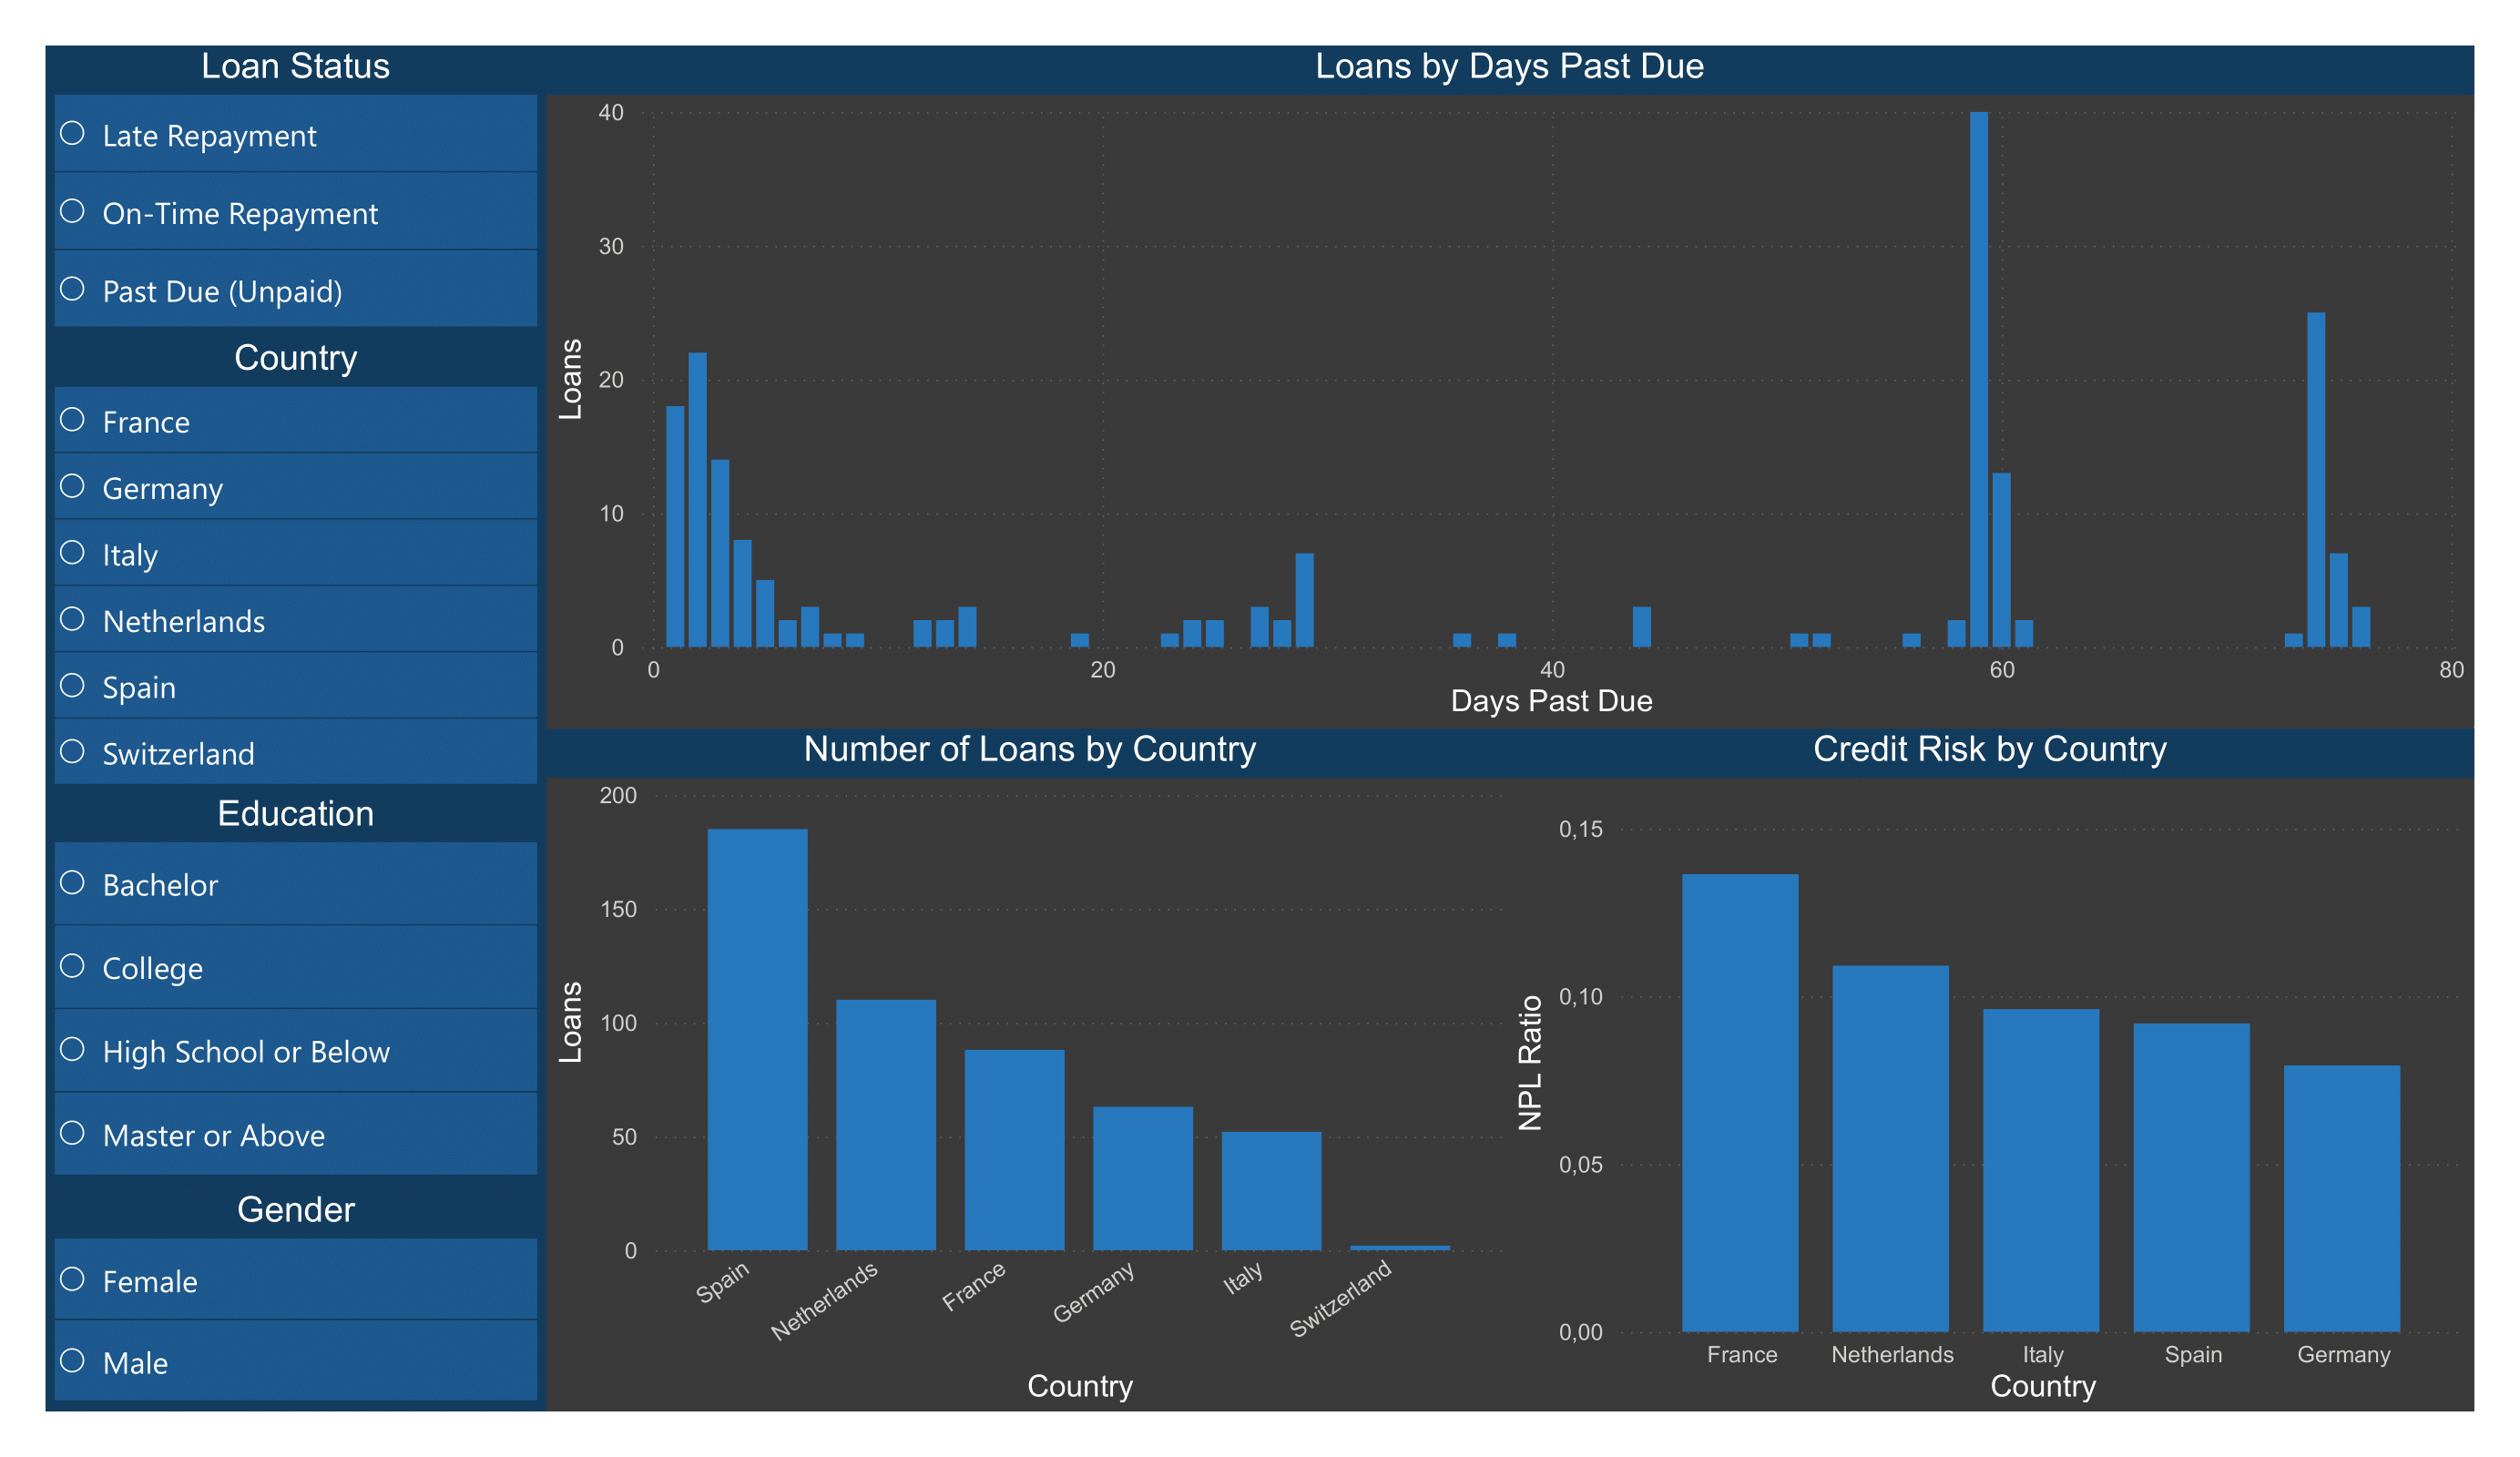

Layout of this report page (visuals, bound fields, positions):
{"tool":"powerbi","page":{"name":"Pagina 3","canvas":[1280,720],"ordinal":2},"visuals":[{"type":"shape","box":[229.2,12.2,1024.4,694.8],"z":0},{"type":"shape","box":[0,0,192,720.1],"z":1000},{"type":"cardVisual","fields":{"Data":["public loan_analysis_view.Total Loans"]},"box":[229.2,12.2,255.6,123.7],"z":2000},{"type":"cardVisual","fields":{"Data":["public loan_analysis_view.Total Loans Amount"]},"box":[484.8,12.2,255.6,123.7],"z":3000},{"type":"cardVisual","fields":{"Data":["public loan_analysis_view.Average Borrower Age"]},"box":[996,12.2,255.6,123.7],"z":4000},{"type":"cardVisual","fields":{"Data":["public loan_analysis_view.Non Performing Loans Ratio"]},"box":[740.4,12.2,255.6,123.7],"z":5000},{"type":"slicer","title":"Loan Status","fields":{"Values":["public loan_analysis_view.Loan Status Label"]},"box":[0,135.9,191.7,224.2],"z":6000},{"type":"slicer","title":"Country","fields":{"Values":["public loan_analysis_view.country"]},"box":[0,360.1,191.7,86.2],"z":7000},{"type":"slicer","title":"Education","fields":{"Values":["public loan_analysis_view.education"]},"box":[0,446.3,191.7,86.2],"z":8000},{"type":"slicer","title":"Gender","fields":{"Values":["public loan_analysis_view.gender"]},"box":[0,532.5,191.7,174.5],"z":9000},{"type":"clusteredColumnChart","title":"Number of Loans by Country","fields":{"Category":["public loan_analysis_view.country"],"Y":["CountNonNull(public loan_analysis_view.loan_id)"]},"box":[233.5,136.2,501.6,566.5],"z":10000},{"type":"clusteredColumnChart","title":"Credit Risk by Country","fields":{"Y":["public loan_analysis_view.Non Performing Loans Ratio"],"Category":["public loan_analysis_view.country"]},"box":[744.3,136.1,502.1,566],"z":11000},{"type":"image","box":[0,0,192,136],"z":11001}]}

Visuals, with their boxes in screenshot pixels (x1, y1, x2, y2):
shape: bbox=[481, 68, 2424, 1387]
shape: bbox=[46, 46, 410, 1411]
cardVisual - public loan_analysis_view.Total Loans: bbox=[481, 68, 965, 303]
cardVisual - public loan_analysis_view.Total Loans Amount: bbox=[965, 68, 1451, 303]
cardVisual - public loan_analysis_view.Average Borrower Age: bbox=[1935, 68, 2421, 303]
cardVisual - public loan_analysis_view.Non Performing Loans Ratio: bbox=[1451, 68, 1935, 303]
"Loan Status" slicer: bbox=[46, 303, 409, 728]
"Country" slicer: bbox=[46, 728, 409, 892]
"Education" slicer: bbox=[46, 892, 409, 1055]
"Gender" slicer: bbox=[46, 1055, 409, 1387]
"Number of Loans by Country" clusteredColumnChart: bbox=[489, 304, 1441, 1379]
"Credit Risk by Country" clusteredColumnChart: bbox=[1458, 304, 2411, 1378]
image: bbox=[46, 46, 410, 303]
